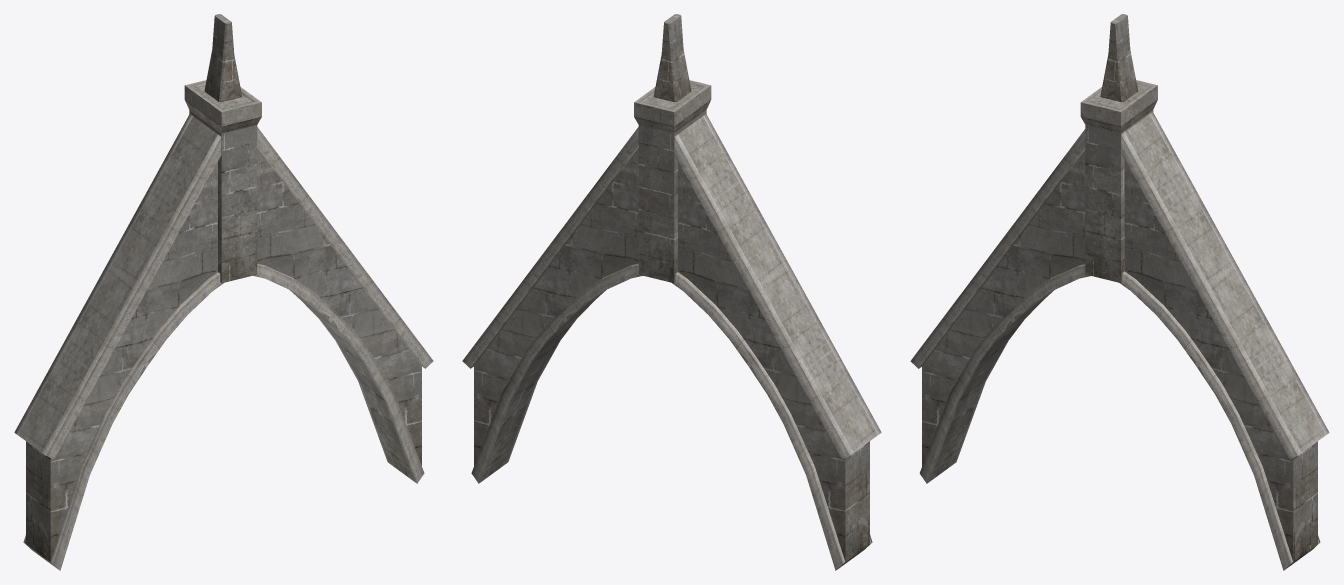
The model's file is bg_lut_lucastle_churchunderprop02_sm_msj.FBX.
3 views of the same model, side by side, from view 1: azimuth 30°, elevation 25°; view 2: azimuth 150°, elevation 25°; view 3: azimuth 330°, elevation 25° (orthographic).
Parts seen in each view (by area): view 1: bg_lut_lucastle_churchunderprop02_sm_msj; view 2: bg_lut_lucastle_churchunderprop02_sm_msj; view 3: bg_lut_lucastle_churchunderprop02_sm_msj.
Part boxes in pixels (left/top/right/bottom): bg_lut_lucastle_churchunderprop02_sm_msj: left=14, top=14, right=433, bottom=570; bg_lut_lucastle_churchunderprop02_sm_msj: left=462, top=14, right=881, bottom=570; bg_lut_lucastle_churchunderprop02_sm_msj: left=910, top=14, right=1329, bottom=570.
Size of the model in its own units: 310 by 381 by 50.95.
